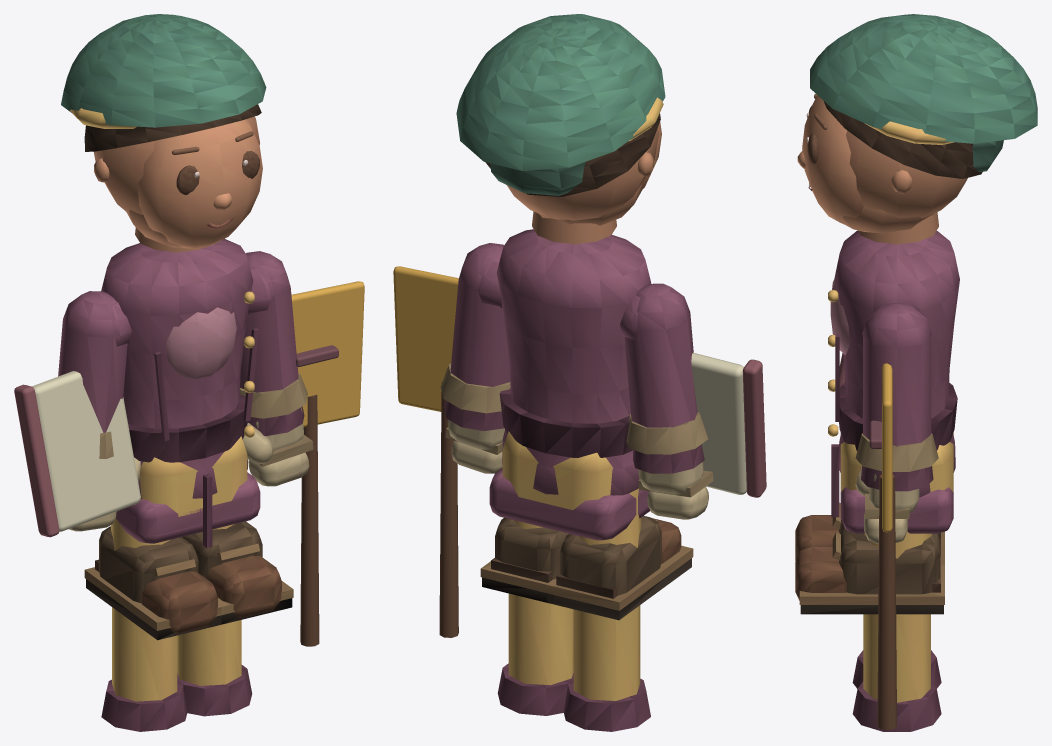
The model's file is lee-eunha.glb.
The picture shows the model from 3 angles, left to right: view 1: azimuth 30°, elevation 25°; view 2: azimuth 150°, elevation 25°; view 3: azimuth 270°, elevation 25°; orthographic projection.
Visible parts, largest first — view 1: coat, legs, hat, figureDetail, festivalLedger, festivalBanner, armRightMesh, armLeftMesh, trousers, handRightMesh, festivalBannerPole, festivalLedgerBinding (+2 smaller); view 2: coat, legs, hat, armLeftMesh, armRightMesh, festivalBanner, figureDetail, festivalLedger, handLeftMesh, trousers, handRightMesh, festivalBannerPole (+2 smaller); view 3: hat, coat, legs, figureDetail, armRightMesh, festivalBannerPole, handRightMesh, trousers, festivalBanner, neck.
Part boxes in pixels (x1,y1,x2,y2): coat: (101,238,260,543); legs: (84,518,293,731); hat: (61,14,266,128); figureDetail: (84,104,262,248); festivalLedger: (32,371,140,531); festivalBanner: (291,281,364,427); armRightMesh: (240,251,304,436); armLeftMesh: (58,291,131,432); trousers: (140,436,247,547); handRightMesh: (239,373,313,486); festivalBannerPole: (300,394,319,646); festivalLedgerBinding: (14,384,59,537); coat: (489,229,651,540); legs: (480,488,693,731); hat: (456,14,665,195); armLeftMesh: (620,283,704,473); armRightMesh: (444,243,510,430); festivalBanner: (393,266,458,411); figureDetail: (485,113,661,225); festivalLedger: (691,352,746,494); handLeftMesh: (626,412,713,519); trousers: (502,431,612,509); handRightMesh: (440,363,510,473); festivalBannerPole: (439,382,458,637); hat: (810,14,1037,171); coat: (828,231,959,533); legs: (795,502,944,731); figureDetail: (797,94,982,233); armRightMesh: (861,303,933,491); festivalBannerPole: (877,474,896,729); handRightMesh: (855,433,938,543); trousers: (831,432,953,517); festivalBanner: (882,363,892,532); neck: (857,212,938,244).
Size of the model in its own units: 1.16 by 2.16 by 0.6857.
